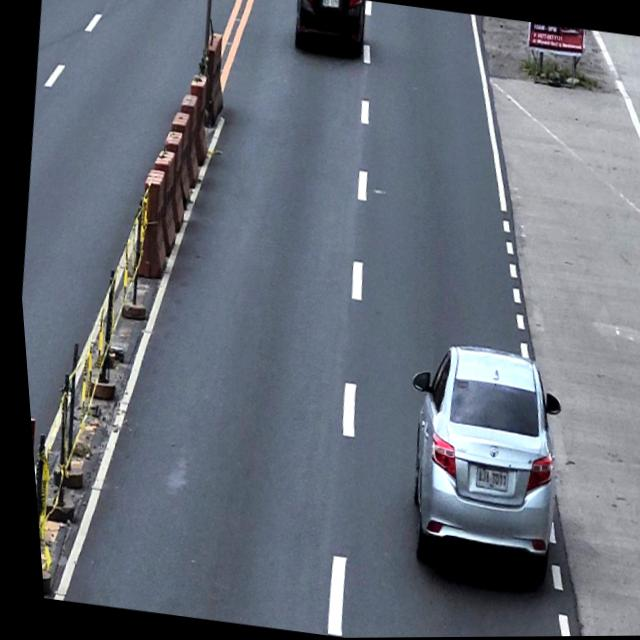Car: (376, 338, 574, 606), (288, 0, 371, 64)
License-Plate: (466, 464, 504, 494), (321, 0, 341, 11)
